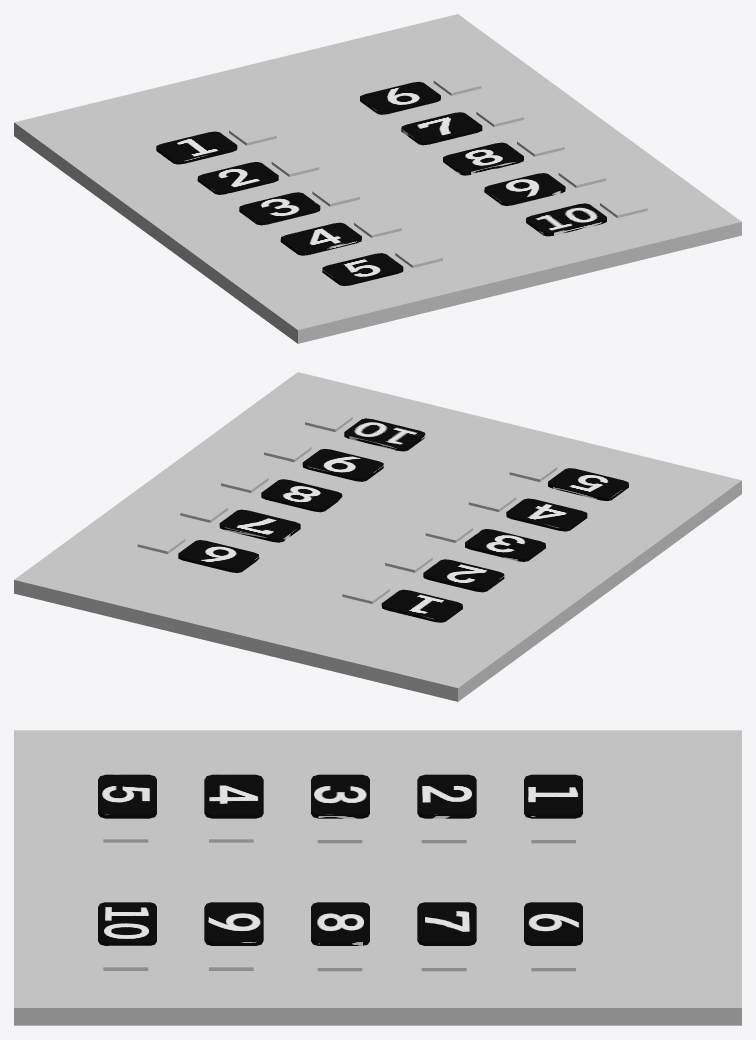
The model's file is elevatorpanel.fbx.
The picture shows the model from 3 angles, top to bottom: view 1: azimuth 30°, elevation 25°; view 2: azimuth 150°, elevation 25°; view 3: azimuth 270°, elevation 25°; orthographic projection. The views are drawn at different scales.
Parts seen in each view (by area): view 1: panel, number button, light button .005, light button .001, light button .007, light button .008, light button .004, light button .009, light button, light button .002, light button .003, light button .006; view 2: panel, number button, light button .005, light button .003, light button .002, light button .004, light button .008, light button, light button .001, light button .006, light button .007, light button .009; view 3: panel, number button, light button .004, light button .001, light button .006, light button .009, light button .002, light button .007, light button, light button .003, light button .005, light button .008.
Boxes of the visible parts, x1,y1,x2,y2 form: panel: (14,14,741,343); number button: (156,81,606,285); light button .005: (433,73,481,95); light button .001: (271,154,319,176); light button .007: (517,134,564,156); light button .008: (558,165,606,187); light button .004: (395,245,442,267); light button .009: (600,195,647,217); light button: (229,123,276,145); light button .002: (312,184,359,206); light button .003: (354,215,401,237); light button .006: (476,104,523,126); panel: (14,372,741,701); number button: (178,418,628,622); light button .005: (137,531,185,554); light button .003: (468,489,516,512); light button .002: (425,520,473,542); light button .004: (509,459,557,481); light button .008: (264,439,311,462); light button: (342,581,389,603); light button .001: (385,550,432,572); light button .006: (180,500,227,522); light button .007: (221,470,268,492); light button .009: (305,409,352,431); panel: (14,730,741,1025); number button: (98,774,582,945); light button .004: (103,820,148,842); light button .001: (421,821,466,843); light button .006: (421,949,466,971); light button .009: (103,948,148,970); light button .002: (317,821,362,843); light button .007: (317,949,362,971); light button: (531,821,575,843); light button .003: (209,820,253,842); light button .005: (531,949,575,971); light button .008: (209,948,253,970).
Size of the model in its own units: 84.49 by 3.05 by 93.57.
